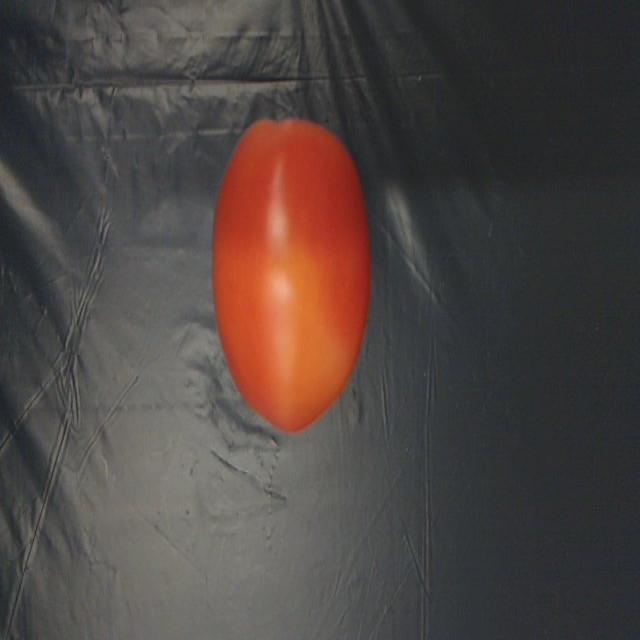sari: (217, 112, 384, 438)
